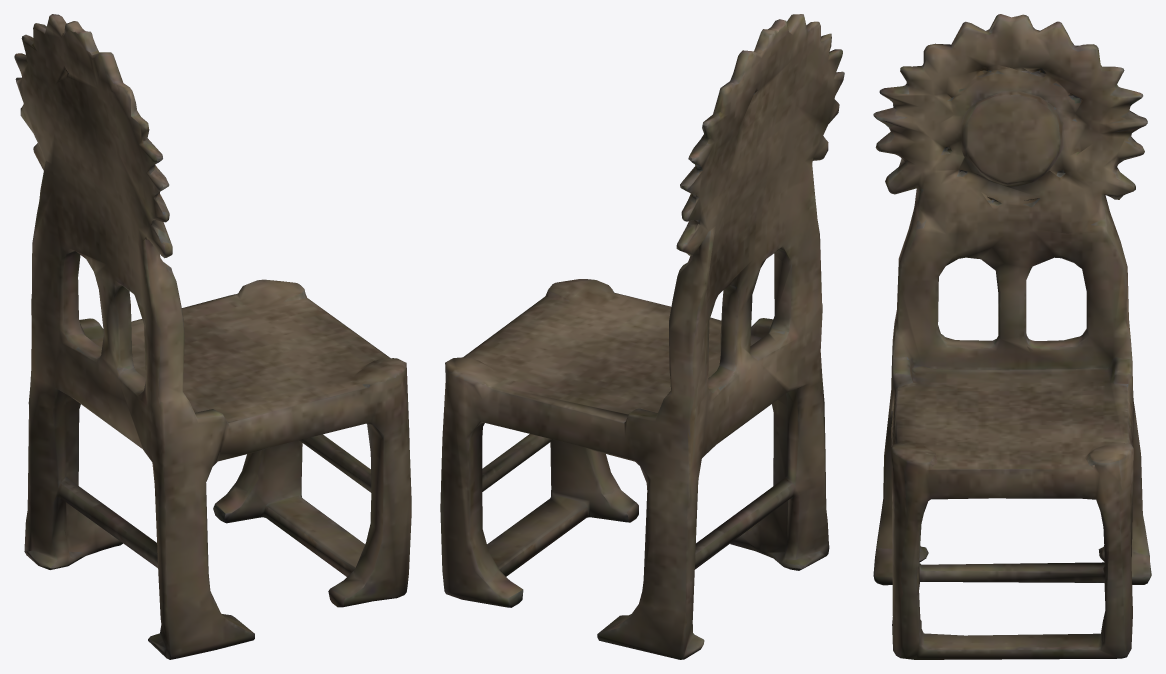
Rendered from simple-wood-throne-v001.glb.
The picture shows the model from 3 angles, left to right: view 1: azimuth 30°, elevation 25°; view 2: azimuth 150°, elevation 25°; view 3: azimuth 270°, elevation 25°; orthographic projection. The views are drawn at different scales.
Visible parts, largest first — view 1: simple-wood-throne; view 2: simple-wood-throne; view 3: simple-wood-throne.
Boxes of the visible parts, bbox=[...] form: simple-wood-throne: bbox=[14, 14, 411, 659]; simple-wood-throne: bbox=[440, 14, 844, 659]; simple-wood-throne: bbox=[873, 14, 1151, 659].
Bounding box in the file's own units: 0.8769 × 1.74 × 0.8315.
1 material, 1 textured.
